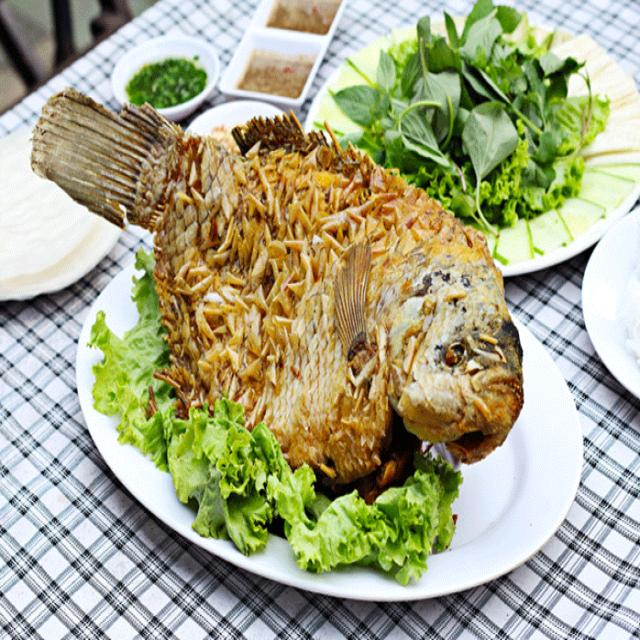Wet Waste: (34, 88, 532, 500)
